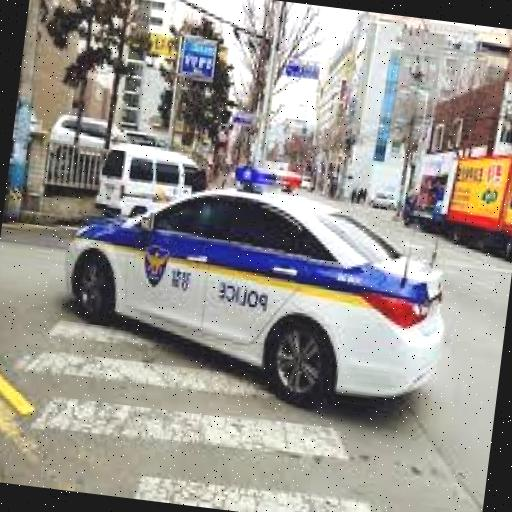Ambulance: (53, 146, 462, 404)
